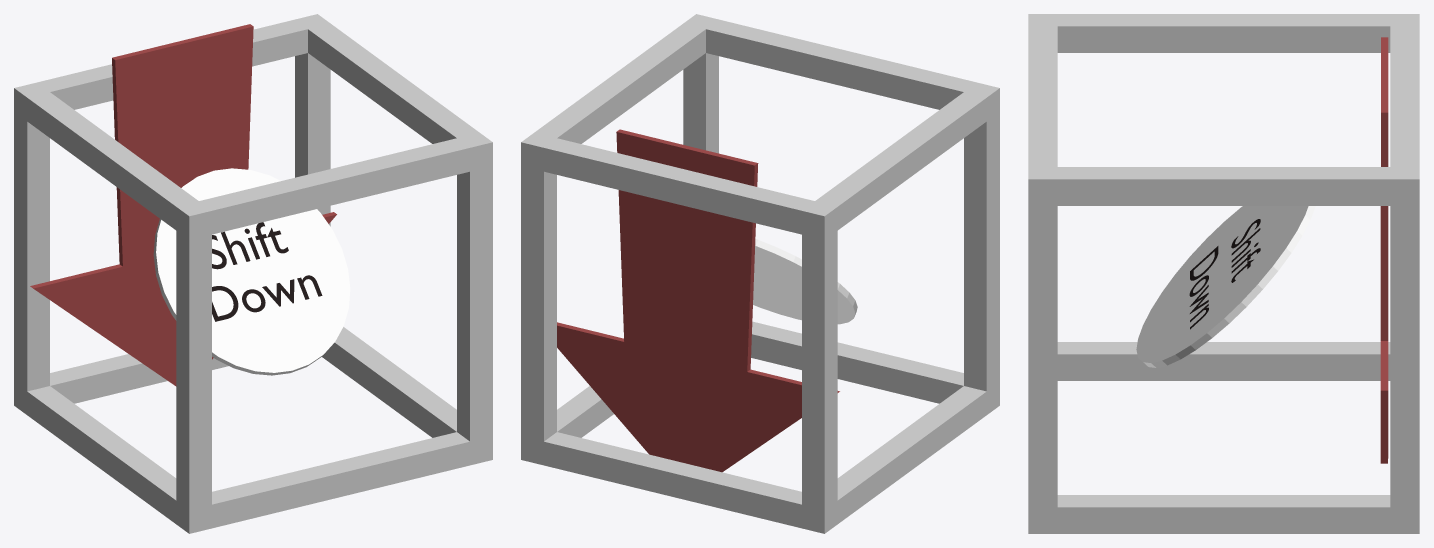
Rendered from MoveDown.glb.
3 views of the same model, side by side, from view 1: azimuth 30°, elevation 25°; view 2: azimuth 150°, elevation 25°; view 3: azimuth 270°, elevation 25° (orthographic). The views are drawn at different scales.
Parts seen in each view (by area): view 1: Cube Frame, arrow, Cylinder.001, Text.001; view 2: Cube Frame, arrow, Cylinder.001; view 3: Cube Frame, Cylinder.001, arrow, Text.001.
Boxes of the visible parts, left/top/right/bottom form: Cube Frame: left=14, top=14, right=492, bottom=533; arrow: left=30, top=24, right=336, bottom=386; Cylinder.001: left=153, top=168, right=350, bottom=375; Text.001: left=212, top=222, right=322, bottom=321; Cube Frame: left=521, top=14, right=999, bottom=533; arrow: left=557, top=129, right=839, bottom=472; Cylinder.001: left=753, top=239, right=857, bottom=324; Cube Frame: left=1028, top=14, right=1419, bottom=533; Cylinder.001: left=1136, top=206, right=1315, bottom=367; arrow: left=1380, top=37, right=1388, bottom=463; Text.001: left=1189, top=219, right=1260, bottom=329.
Size of the model in its own units: 2.01 by 2.19 by 2.
